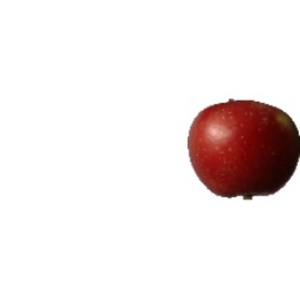maçã braeburn: (187, 98, 300, 198)
